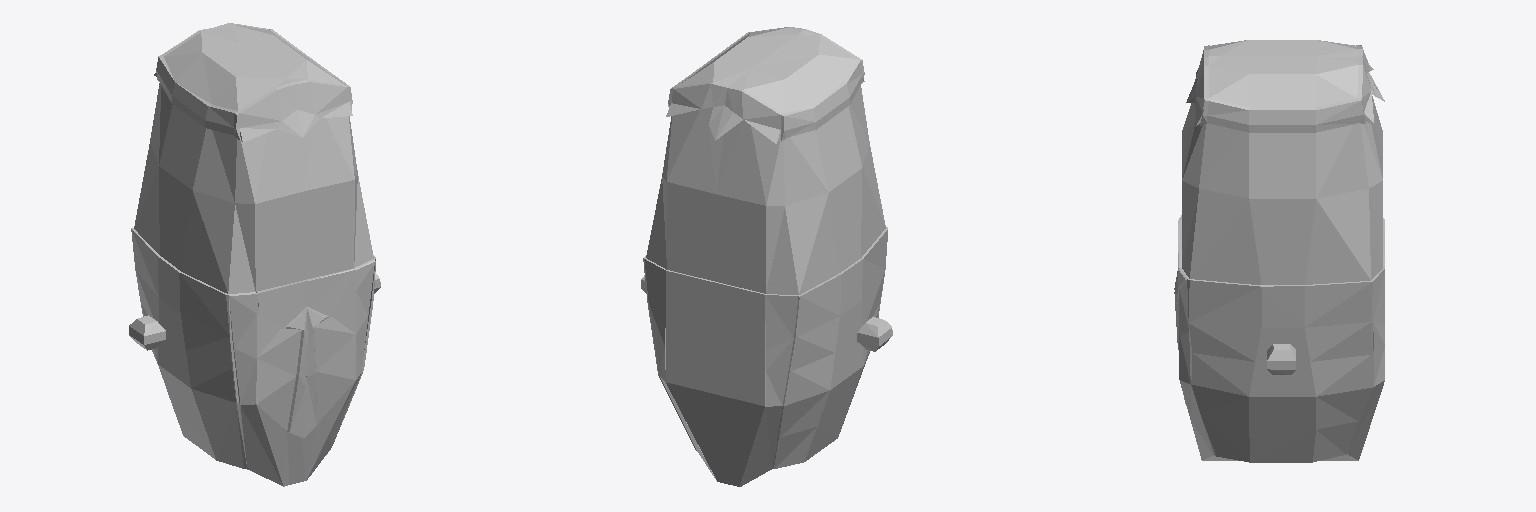
File: main-character.obj
The picture shows the model from 3 angles: view 1: azimuth 30°, elevation 25°; view 2: azimuth 150°, elevation 25°; view 3: azimuth 270°, elevation 25°; orthographic projection.
Visible parts, largest first — view 1: Cube; view 2: Cube; view 3: Cube.
Part boxes in pixels (bbox=[...]): Cube: bbox=[129, 23, 380, 486]; Cube: bbox=[641, 27, 892, 486]; Cube: bbox=[1174, 40, 1384, 462].
Bounding box in the file's own units: 1.11 × 1.78 × 0.854.